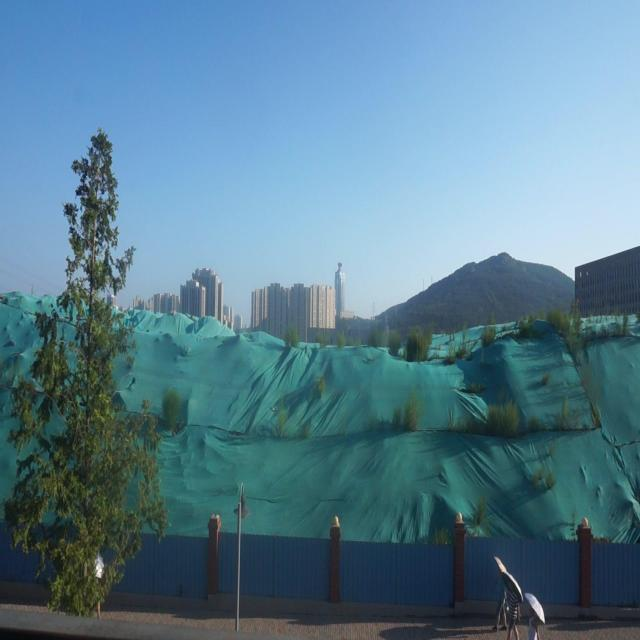UAV: (269, 407, 277, 413)
